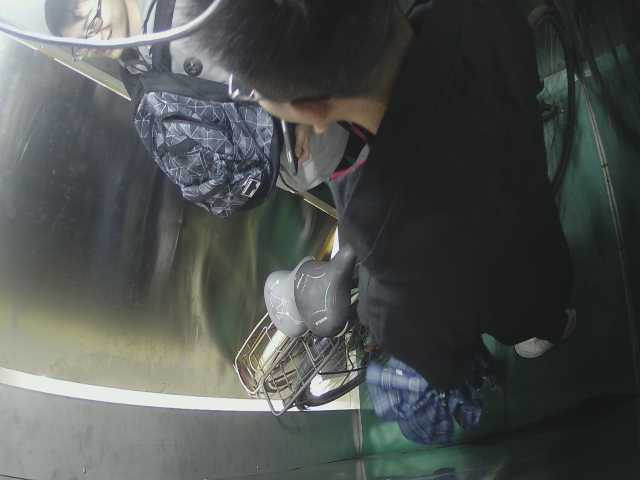bag: (95, 66, 284, 219)
bicycle: (226, 13, 584, 423)
person: (35, 1, 236, 86)
